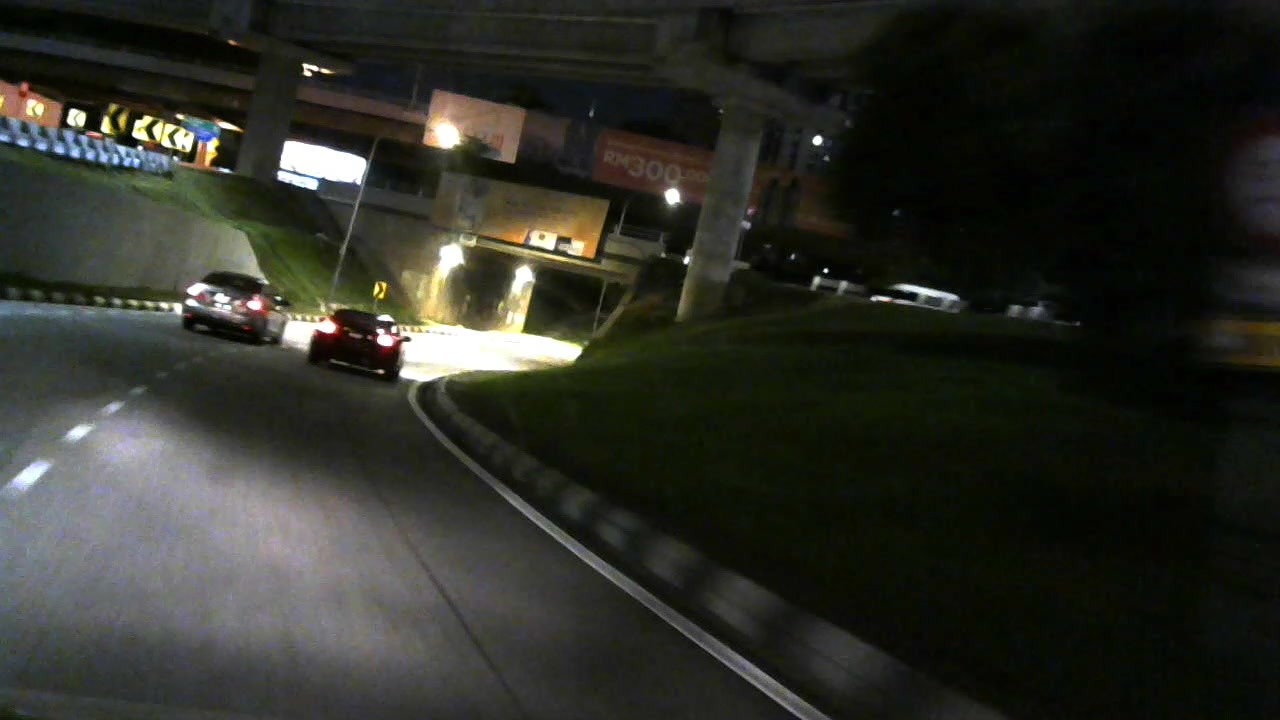Car: (170, 265, 291, 349), (306, 302, 404, 389)
